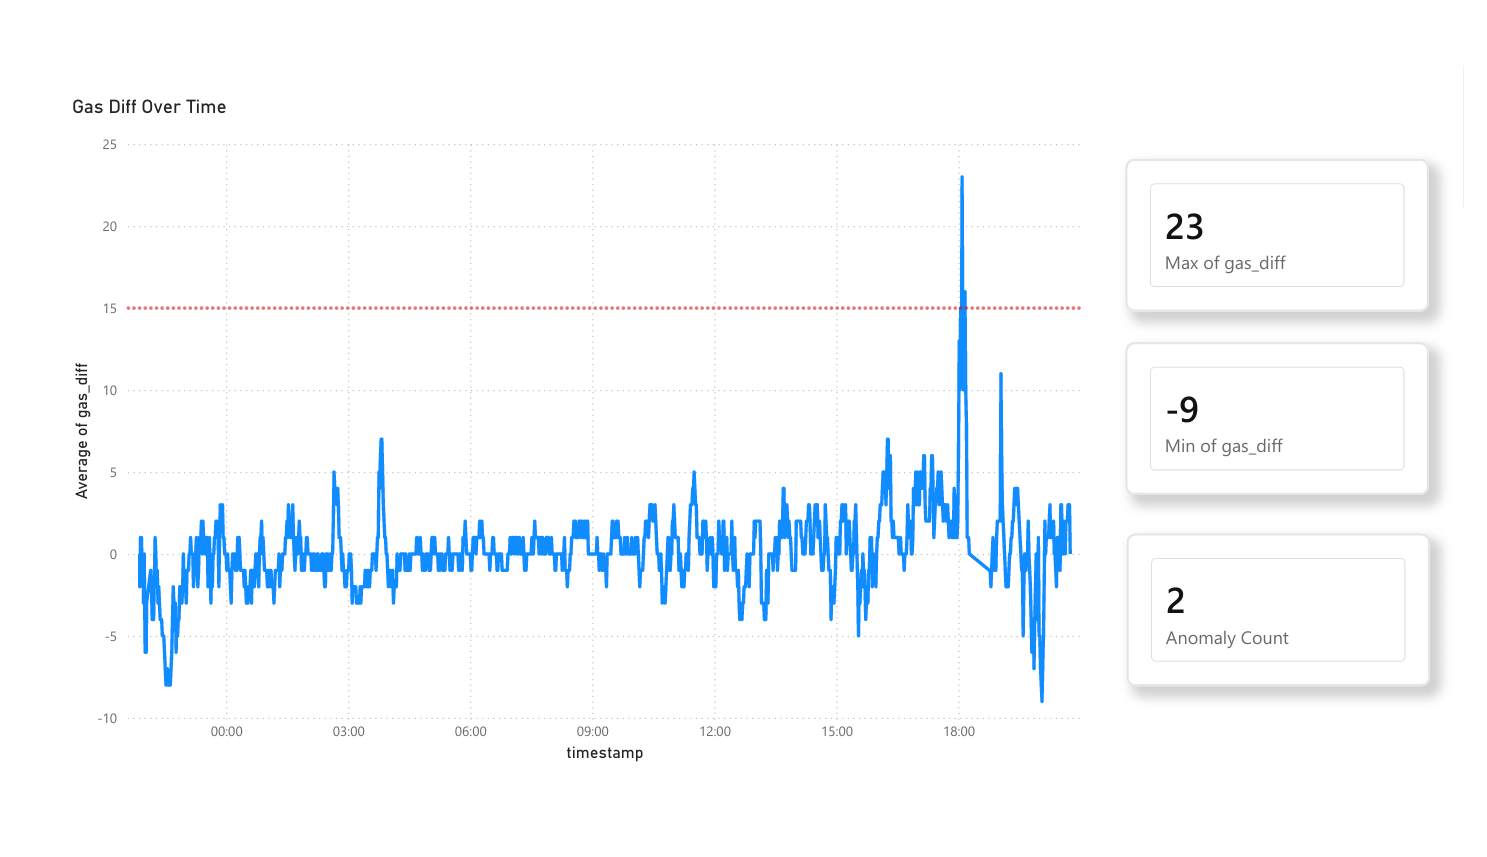

The page's visual inventory and layout, read from the dashboard file:
{"tool":"powerbi","page":{"name":"Gas Analysis","canvas":[1280,720],"ordinal":1},"visuals":[{"type":"lineChart","title":"Gas Diff Over Time","fields":{"Category":["sensor_log.timestamp"],"Y":["Avg(sensor_log.gas_diff)"]},"box":[38.4,61.2,911.4,598],"z":0},{"type":"cardVisual","fields":{"Data":["Max(sensor_log.gas_diff)"]},"box":[978.8,118.4,269.8,136],"z":1000},{"type":"cardVisual","fields":{"Data":["Min(sensor_log.gas_diff)"]},"box":[978.8,281.2,269.8,136],"z":2000},{"type":"cardVisual","fields":{"Data":["sensor_log.Anomaly Count"]},"box":[979.8,451.5,270.2,135.7],"z":3000}]}

Visuals, with their boxes in screenshot pixels (x1, y1, x2, y2), scaled from the page's 1280x720 canvas onto the 1487x857 screenshot:
"Gas Diff Over Time" lineChart: detection(45, 73, 1103, 785)
cardVisual - Max(sensor_log.gas_diff): detection(1137, 141, 1451, 303)
cardVisual - Min(sensor_log.gas_diff): detection(1137, 335, 1451, 497)
cardVisual - sensor_log.Anomaly Count: detection(1138, 537, 1452, 699)
